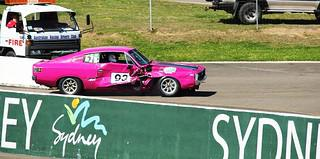doorouter-dent: (100, 60, 142, 89)
fender-dent: (148, 64, 194, 80)
